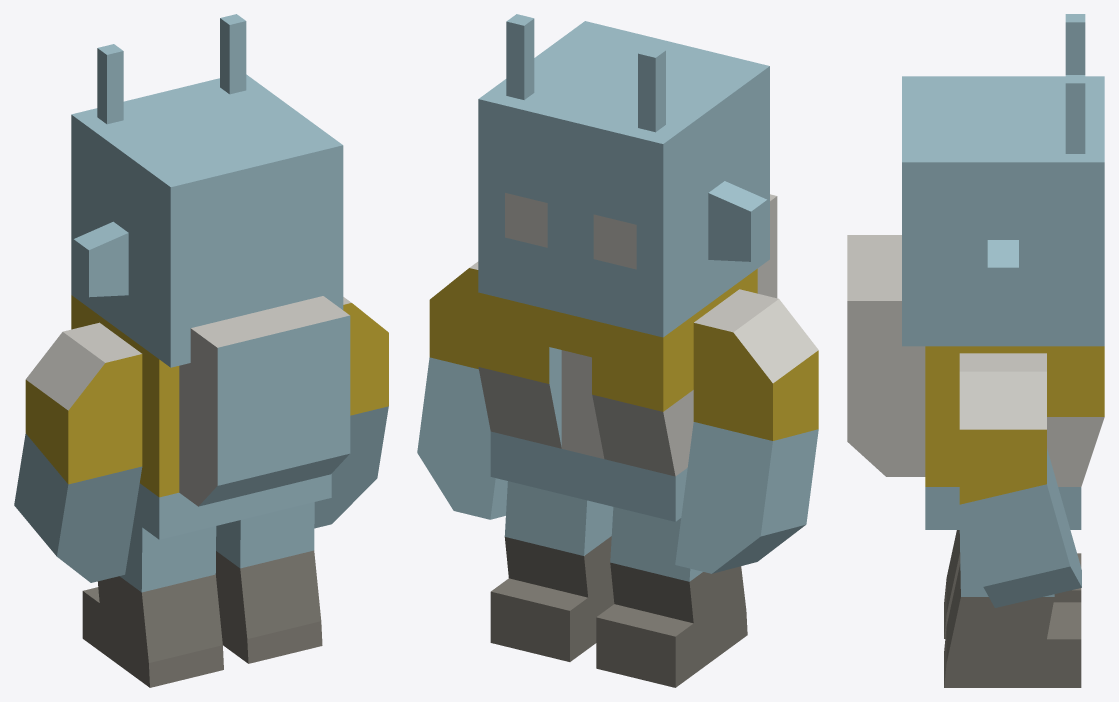
File: cc0-alien-lod1.glb
3 views of the same model, side by side, from view 1: azimuth 30°, elevation 25°; view 2: azimuth 150°, elevation 25°; view 3: azimuth 270°, elevation 25° (orthographic). The views are drawn at different scales.
Parts seen in each view (by area): view 1: part_0; view 2: part_0; view 3: part_0.
Part boxes in pixels (box(x1,y1,x2,y2)): part_0: box(14, 14, 388, 687); part_0: box(417, 14, 818, 687); part_0: box(847, 14, 1104, 687).
Size of the model in its own units: 0.4832 by 0.8432 by 0.33.
